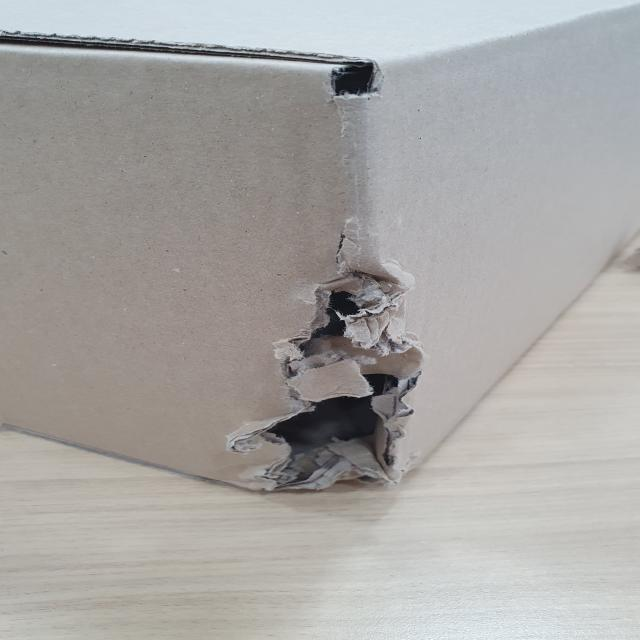hole: (230, 276, 427, 476), (311, 42, 394, 108)
